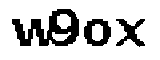9: (49, 6, 81, 48)
o: (83, 15, 110, 46)
w: (6, 15, 51, 48)
x: (113, 17, 146, 48)
